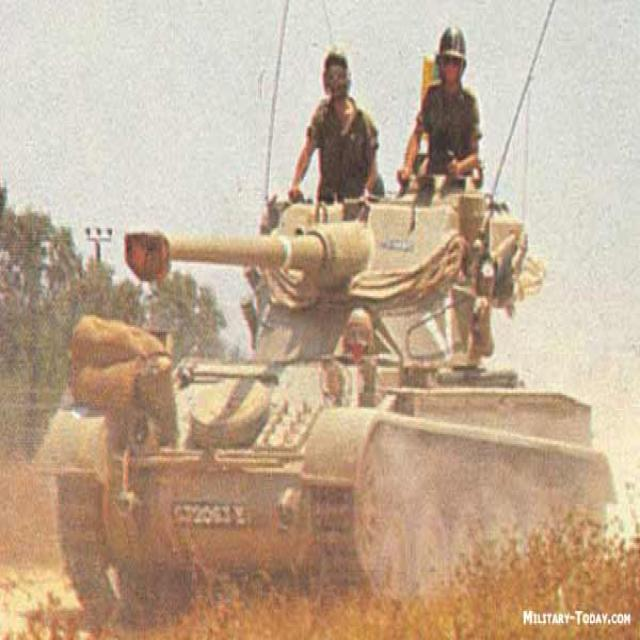Tank: (43, 151, 627, 576)
